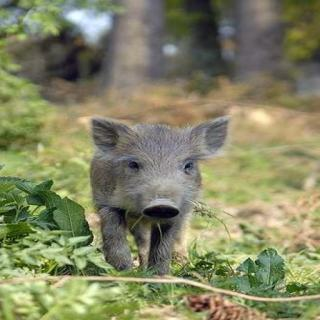Pig: (70, 99, 252, 293)
